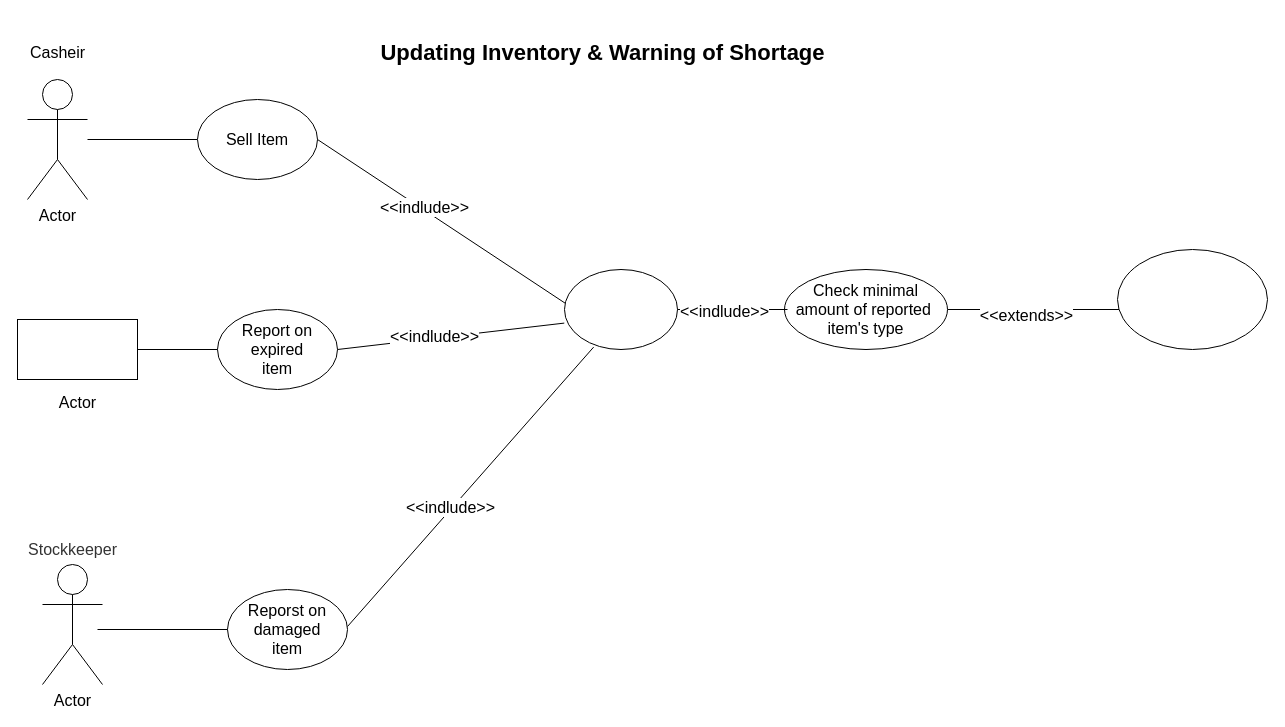
Some shapes in this 1285 by 727 pixel diagram are drawn without their labels. Each missing label, with the box of its shape:
Delete from stock: (564, 268, 678, 350)
Report on lack of this item's type: (1116, 248, 1268, 350)
System: (16, 318, 138, 380)
